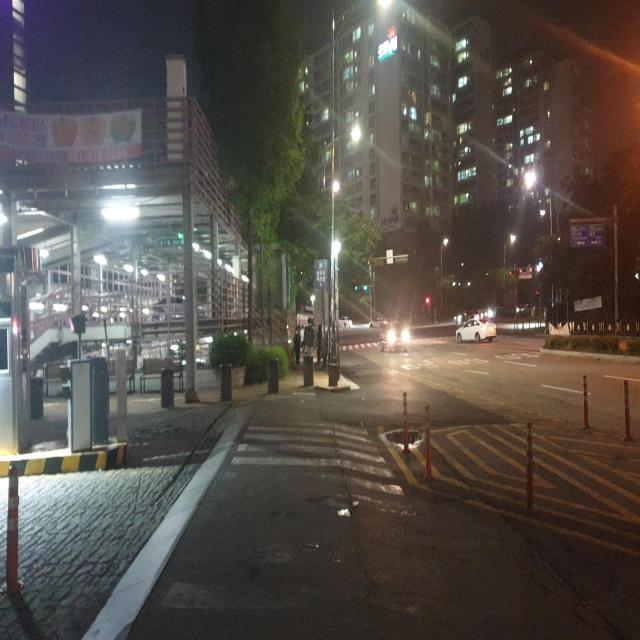횡단보도: (224, 421, 417, 519)
